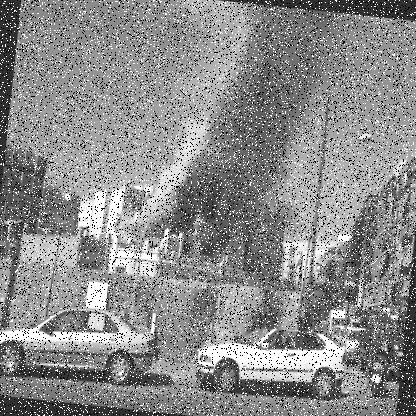Car: (0, 296, 158, 396), (193, 322, 346, 404)
